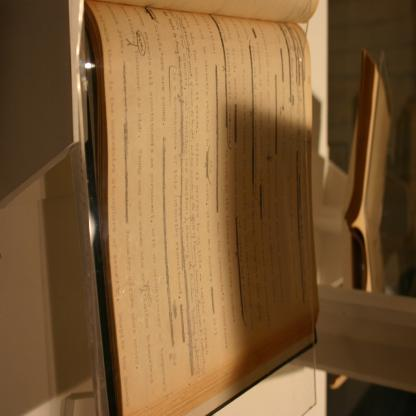book: (109, 49, 301, 351), (344, 44, 390, 292)
